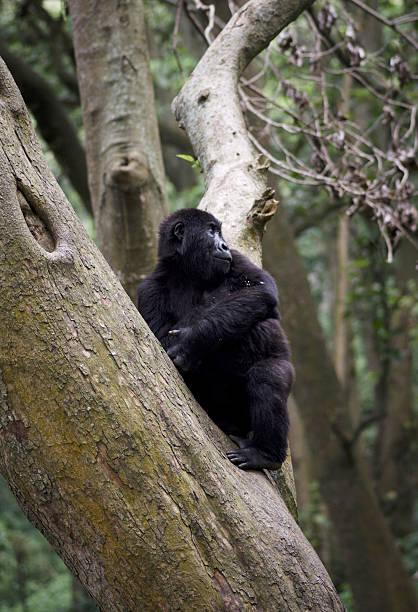goriile_montagne: (137, 189, 321, 467)
